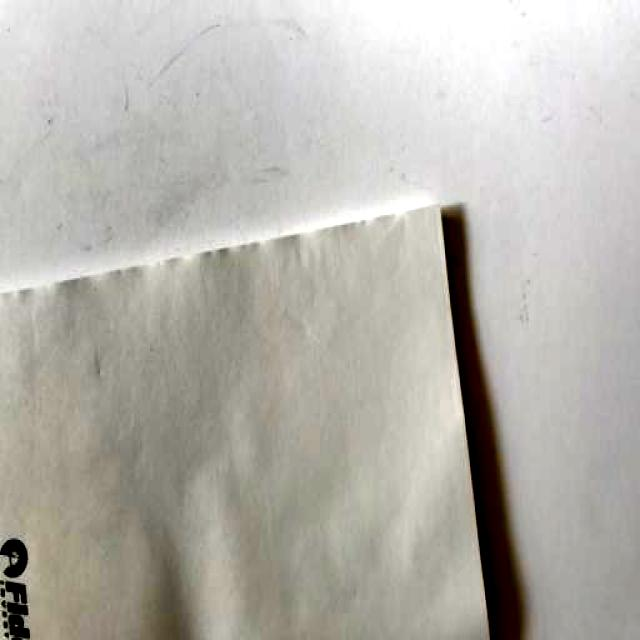Paper: (0, 212, 494, 640)
